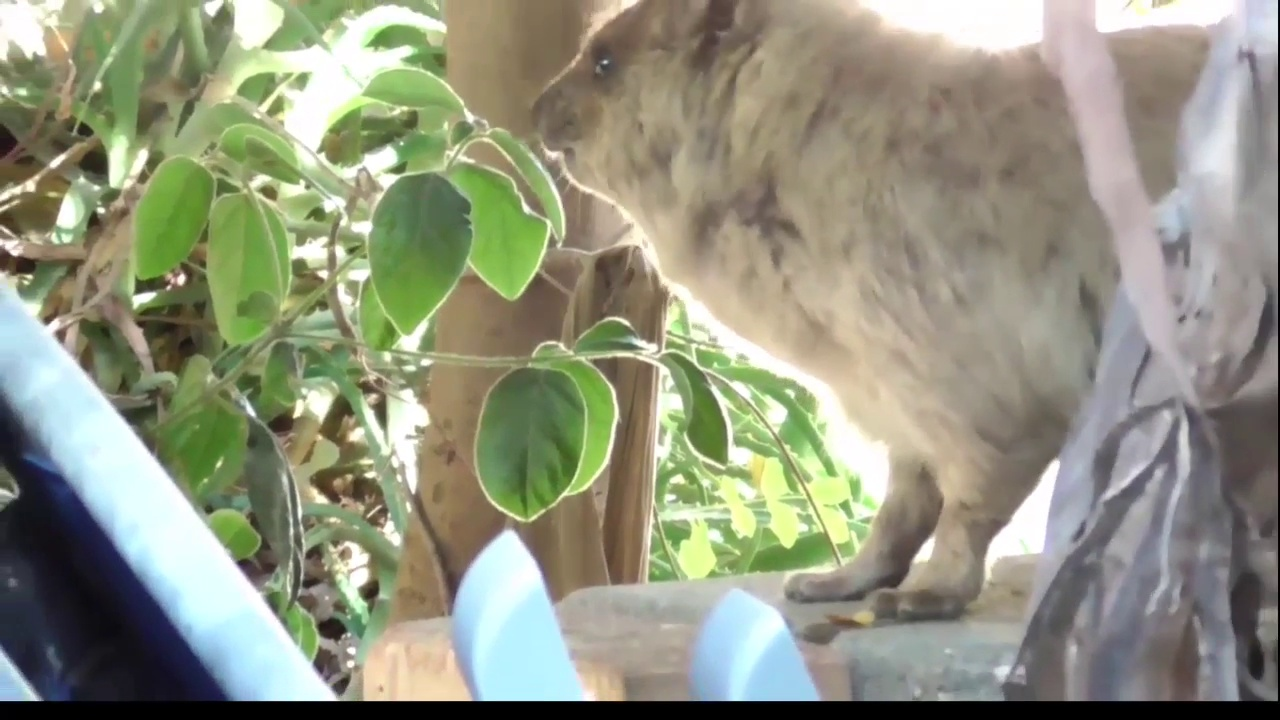Rock Hyrex: (525, 2, 1216, 626)
